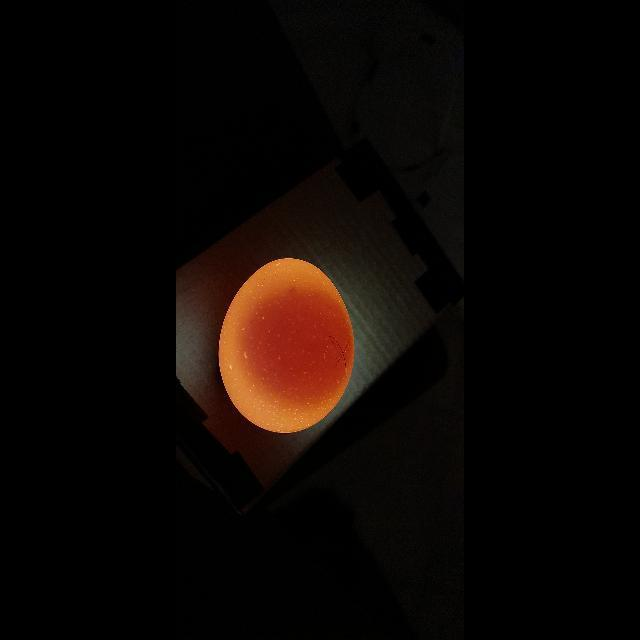Inedible: (209, 242, 364, 441)
